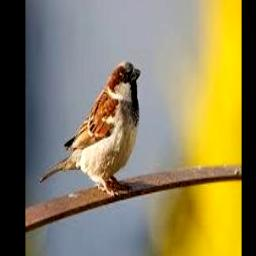Sparrow: (40, 61, 141, 197)
